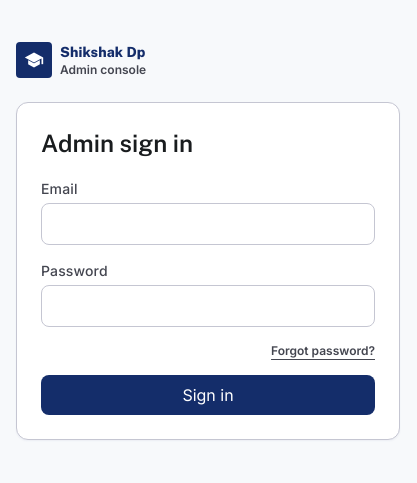
Scenario: AdminLoginPage › shows the generic error on bad credentials
Type "boss@example.com" into the field labelled "Email" at (208, 224), box [41,203,375,245]
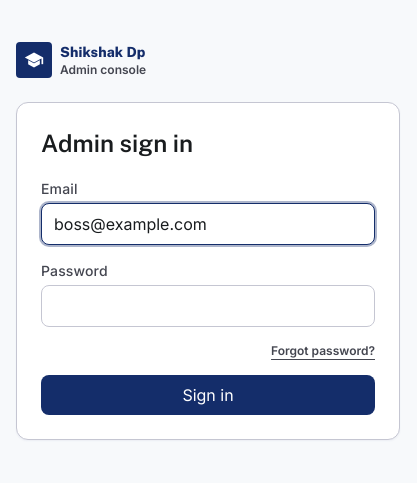
Type "wrong-password-1" into the password field labelled "Password" at (208, 306), box [41,285,375,327]
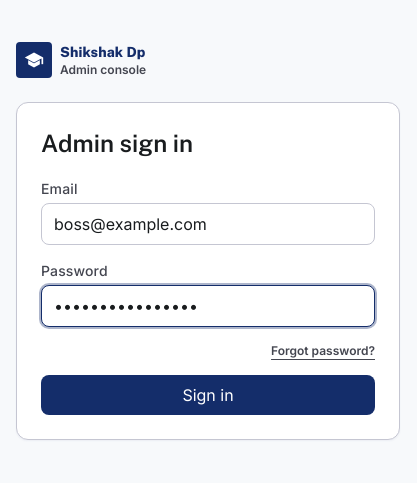
Click the button with test id "btn-al1" at (208, 395), box [41,375,375,415]
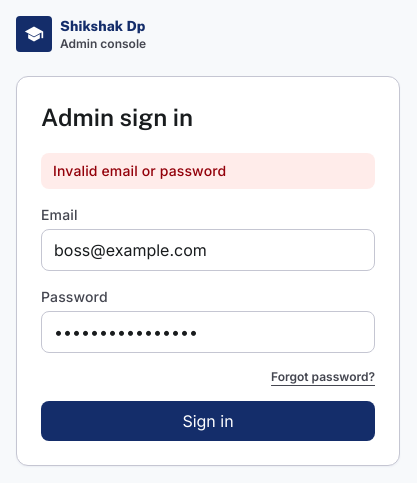
Expected: the message reads "Invalid email or password", [53,162,226,179]
